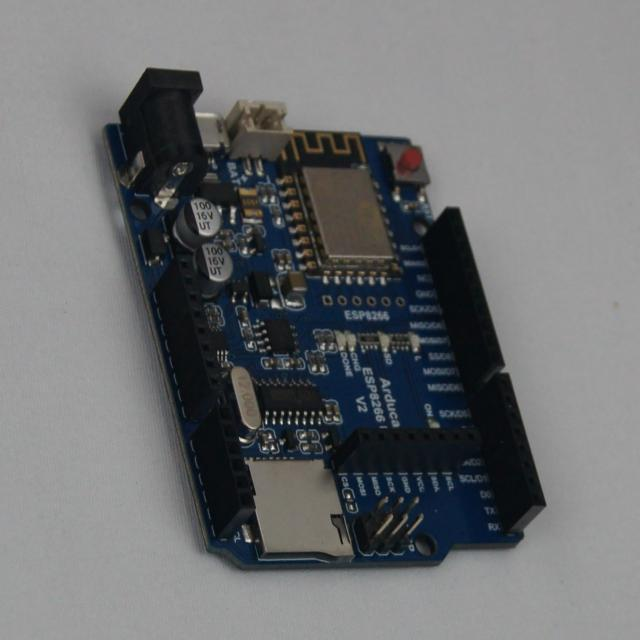Arduino Uno Camera Shield: (106, 69, 545, 568)
